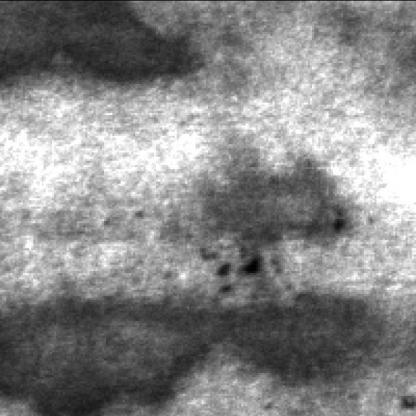inclusion: (204, 254, 260, 291)
patches: (0, 289, 373, 414), (0, 0, 202, 85), (200, 154, 343, 239)
